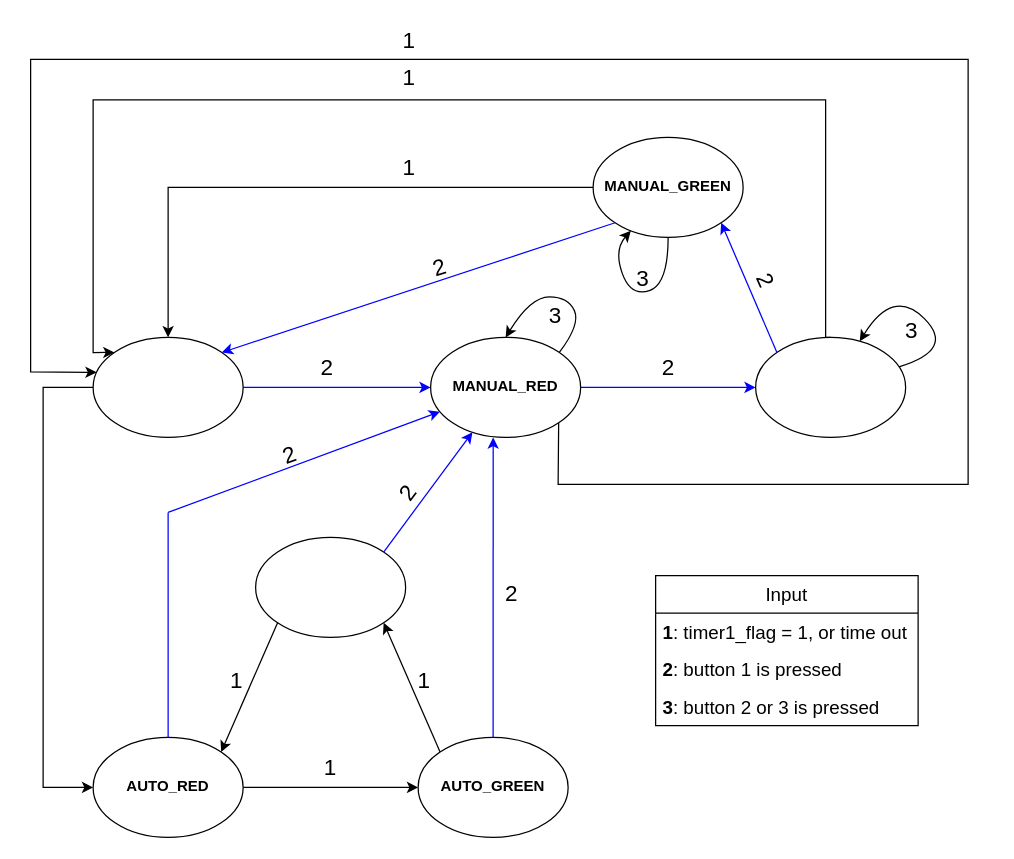
Some shapes in this 1014 by 859 pixel diagram are drawn without their labels. The shapes that lost their labels are listed below. From the top down, each one's centre as x and y in pixels, then its label:
(167,386): INIT
(830,386): MANUAL_YELLOW
(330,586): AUTO_YELLOW
